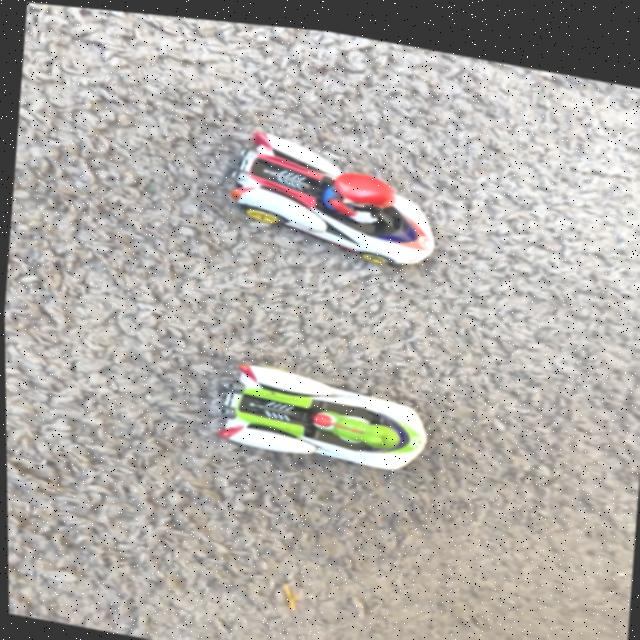mario: (209, 130, 459, 279)
yoshi: (210, 334, 450, 482)
